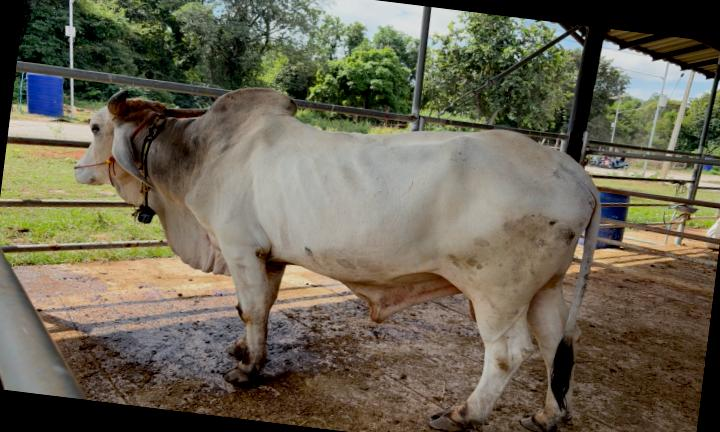Brahman: (74, 88, 600, 432)
